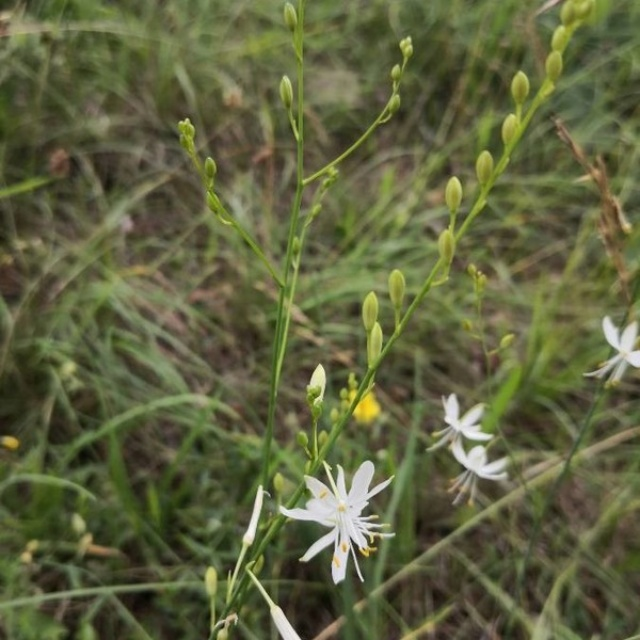obstacle: (223, 63, 493, 586)
